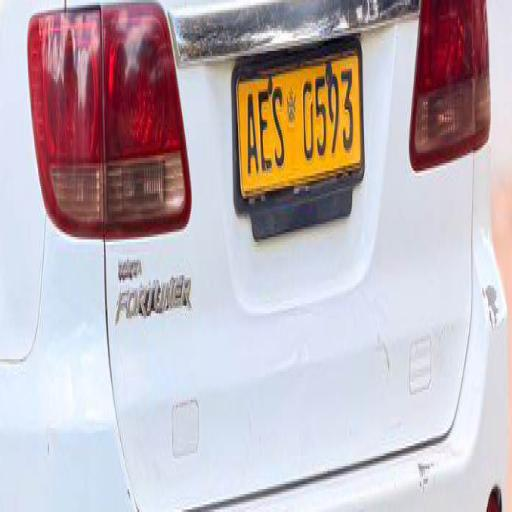number-plates: (236, 60, 356, 176)
